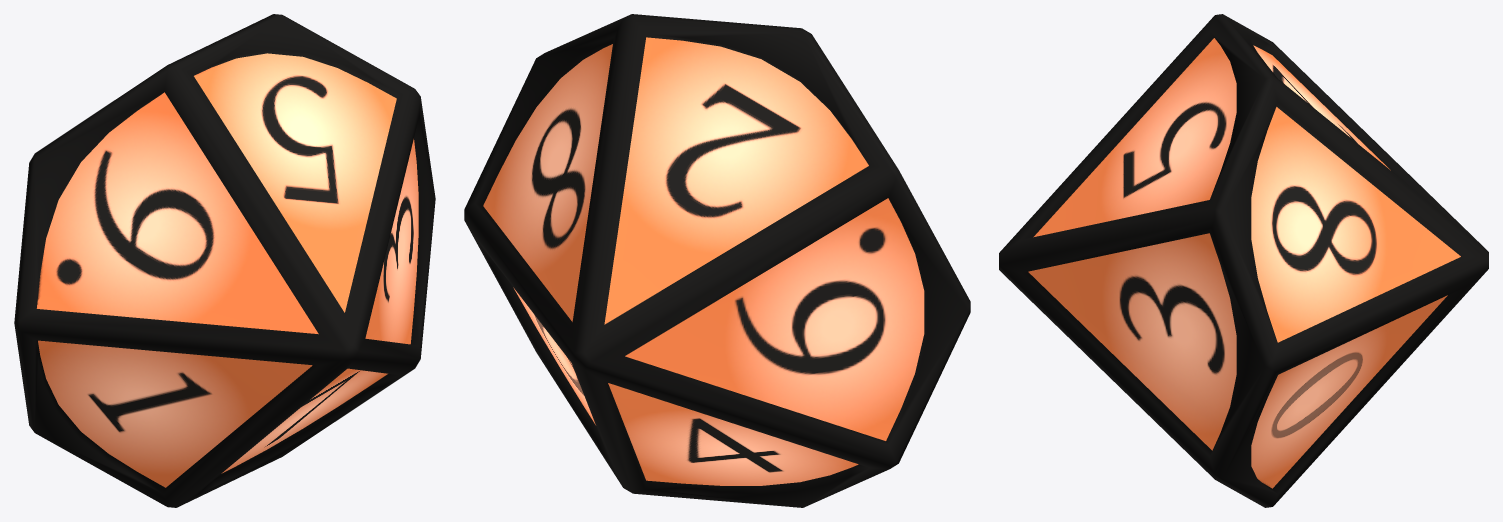
Rendered from crucible_d10.glb.
The picture shows the model from 3 angles, left to right: view 1: azimuth 30°, elevation 25°; view 2: azimuth 150°, elevation 25°; view 3: azimuth 270°, elevation 25°; orthographic projection. The views are drawn at different scales.
Visible parts, largest first — view 1: Mesh_0; view 2: Mesh_0; view 3: Mesh_0.
Boxes of the visible parts, x1=… form: Mesh_0: x1=14, y1=14, x2=435, y2=507; Mesh_0: x1=464, y1=14, x2=970, y2=507; Mesh_0: x1=999, y1=14, x2=1488, y2=507.
Size of the model in its own units: 175 by 166 by 172.
1 material, 1 textured.
